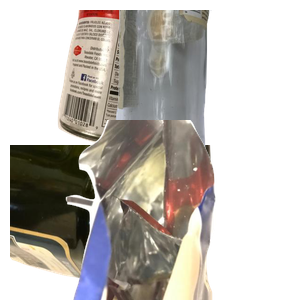glass: (113, 10, 300, 190)
metal: (55, 10, 227, 149)
plastic: (10, 145, 213, 300)
trash: (63, 120, 300, 300)
